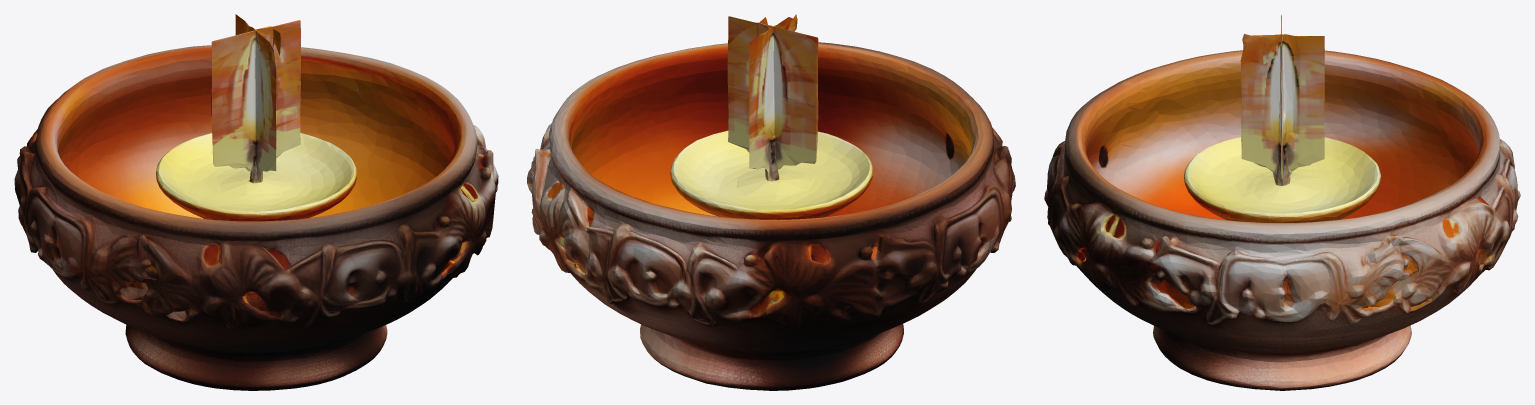
The model's file is clay-candle-holder-vintage.jpeg.glb.
3 renders of one model, left to right at view 1: azimuth 30°, elevation 25°; view 2: azimuth 150°, elevation 25°; view 3: azimuth 270°, elevation 25°, orthographic. The views are drawn at different scales.
Visible parts, largest first — view 1: world; view 2: world; view 3: world.
Part boxes in pixels (x1,y1,x2,y2): world: (14,14,498,390); world: (527,14,1015,390); world: (1044,15,1520,390).
Bounding box in the file's own units: 0.9962 × 0.709 × 1.
1 material, 1 textured.
